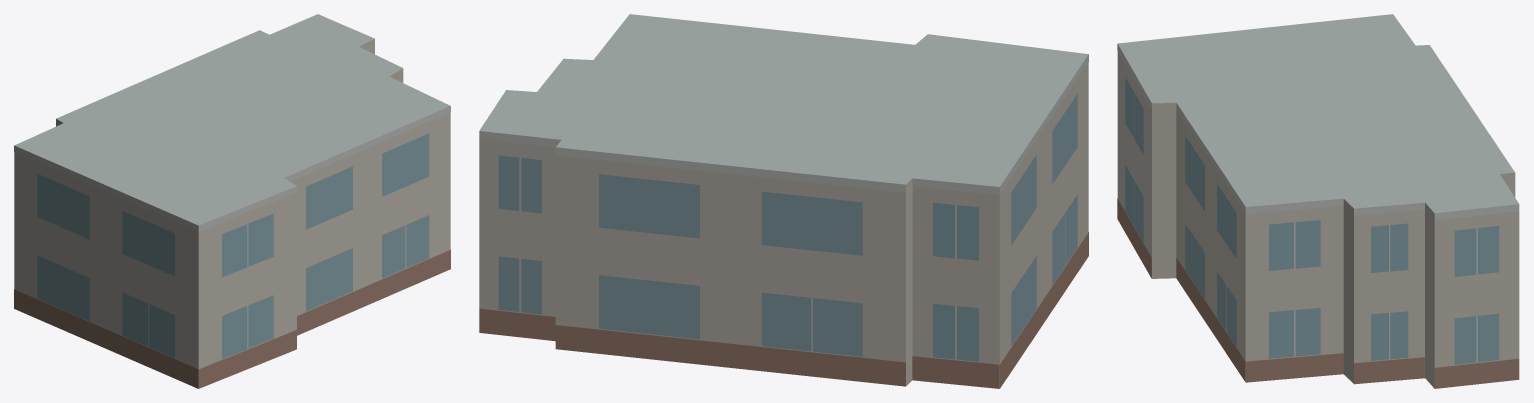
The model's file is survey-upis-32624100.glb.
The picture shows the model from 3 angles, left to right: view 1: azimuth 30°, elevation 25°; view 2: azimuth 150°, elevation 25°; view 3: azimuth 270°, elevation 25°; orthographic projection. The views are drawn at different scales.
Parts seen in each view (by area): view 1: survey-upis-32624100.tmp; view 2: survey-upis-32624100.tmp; view 3: survey-upis-32624100.tmp.
Part boxes in pixels (x1,y1,x2,y2): survey-upis-32624100.tmp: (14, 14, 450, 388); survey-upis-32624100.tmp: (479, 14, 1088, 388); survey-upis-32624100.tmp: (1117, 14, 1519, 388).
Bounding box in the file's own units: 14.86 × 6.1 × 12.66.
